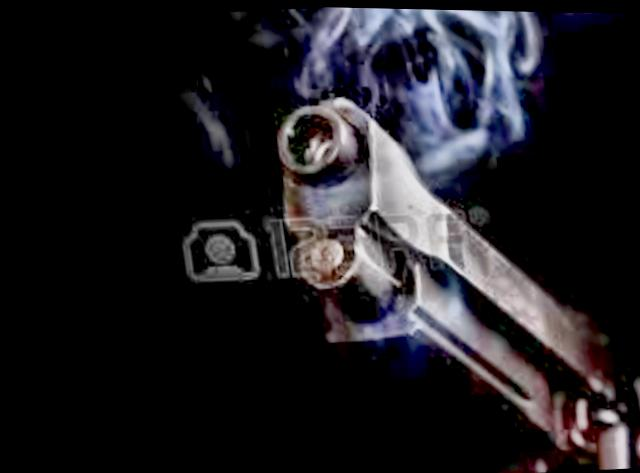pistol: (252, 58, 640, 473)
